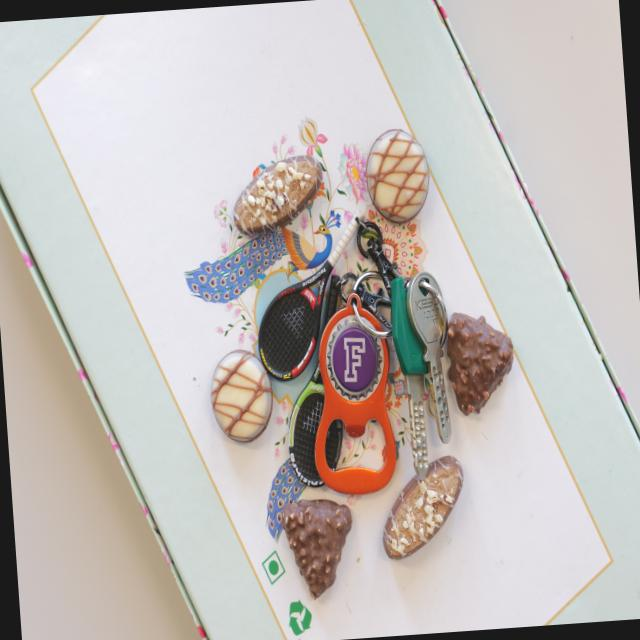Amandina: (378, 454, 469, 560), (230, 154, 324, 237)
Creme_brulee: (363, 126, 434, 225), (206, 348, 274, 447)
Triangolo: (280, 492, 356, 600), (444, 308, 516, 416)
